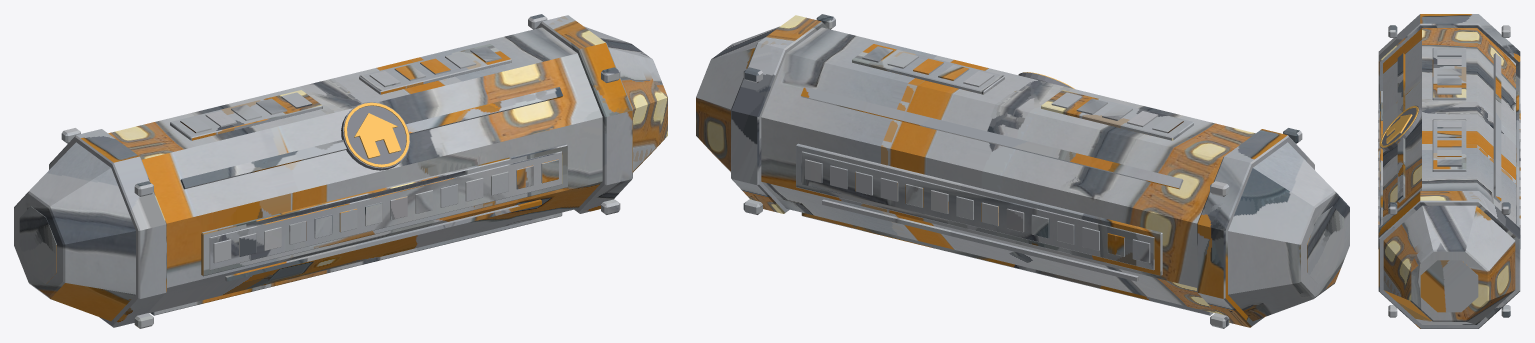
The model's file is SM_Habitat.fbx.
The picture shows the model from 3 angles, left to right: view 1: azimuth 30°, elevation 25°; view 2: azimuth 150°, elevation 25°; view 3: azimuth 270°, elevation 25°; orthographic projection. The views are drawn at different scales.
Visible parts, largest first — view 1: SMN_Habitat, Emblem_Habitat; view 2: SMN_Habitat; view 3: SMN_Habitat, Emblem_Habitat.
Part boxes in pixels (x1,y1,x2,y2): SMN_Habitat: (14, 14, 667, 328); Emblem_Habitat: (341, 102, 410, 170); SMN_Habitat: (696, 14, 1349, 328); SMN_Habitat: (1378, 14, 1520, 328); Emblem_Habitat: (1380, 105, 1422, 150).
Size of the model in its own units: 1.92 by 0.5007 by 0.5032.
